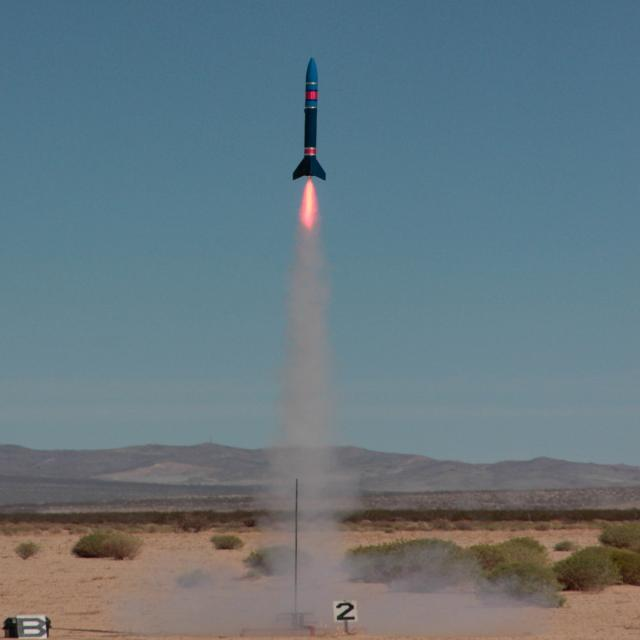Rocket: (292, 56, 327, 182)
